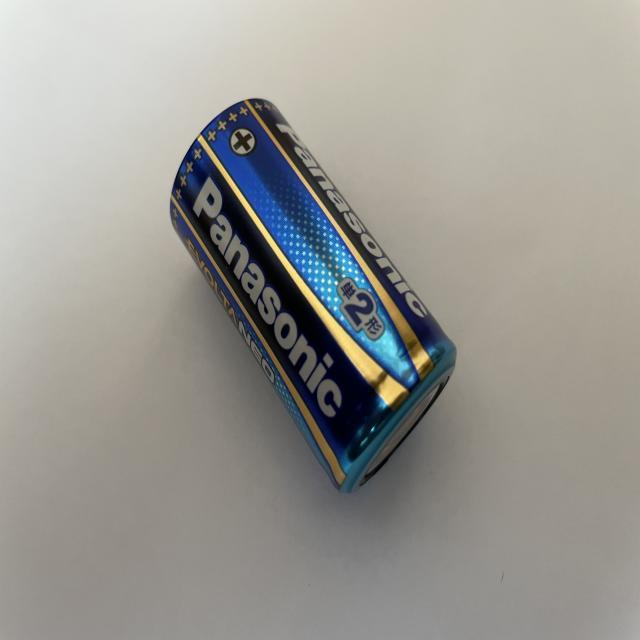hazardous waste: (166, 95, 458, 498)
